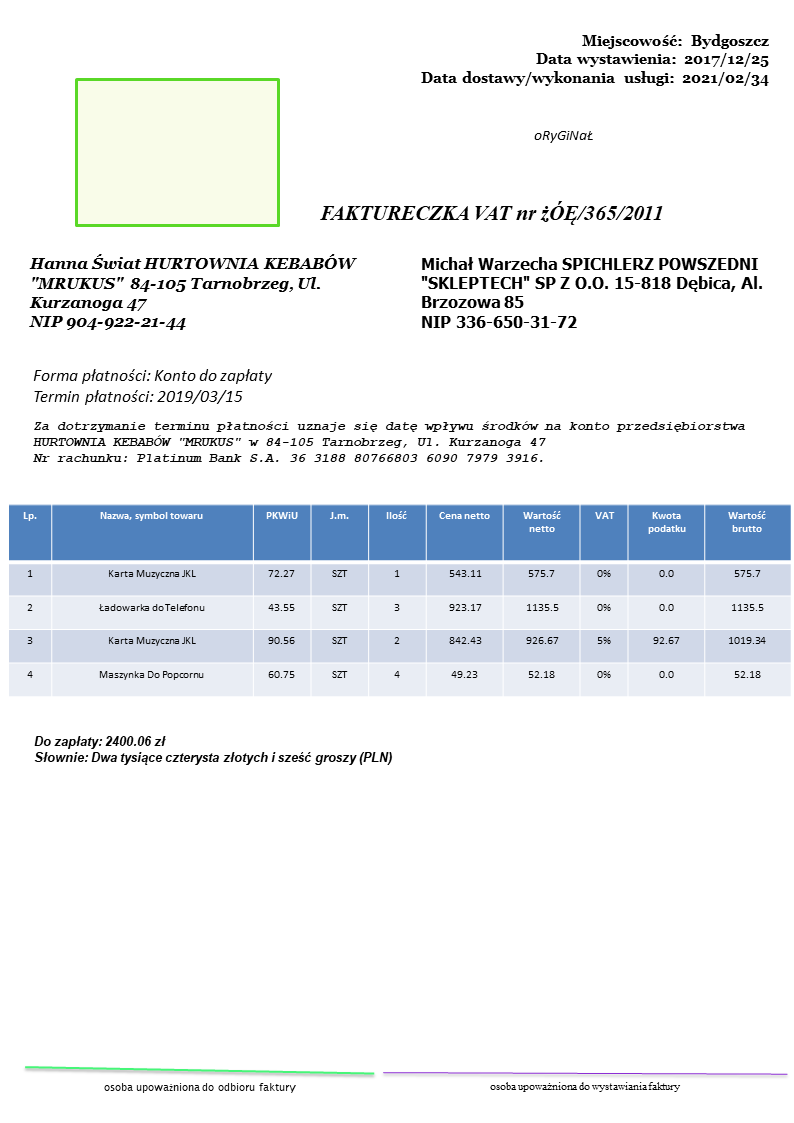Table: (6, 502, 794, 698)
TextBox: (30, 417, 749, 467), (27, 251, 359, 334), (417, 254, 766, 331), (415, 30, 771, 92), (32, 732, 395, 769), (30, 365, 276, 408), (315, 199, 668, 228), (485, 1078, 682, 1096), (101, 1080, 298, 1096), (529, 127, 595, 146)
